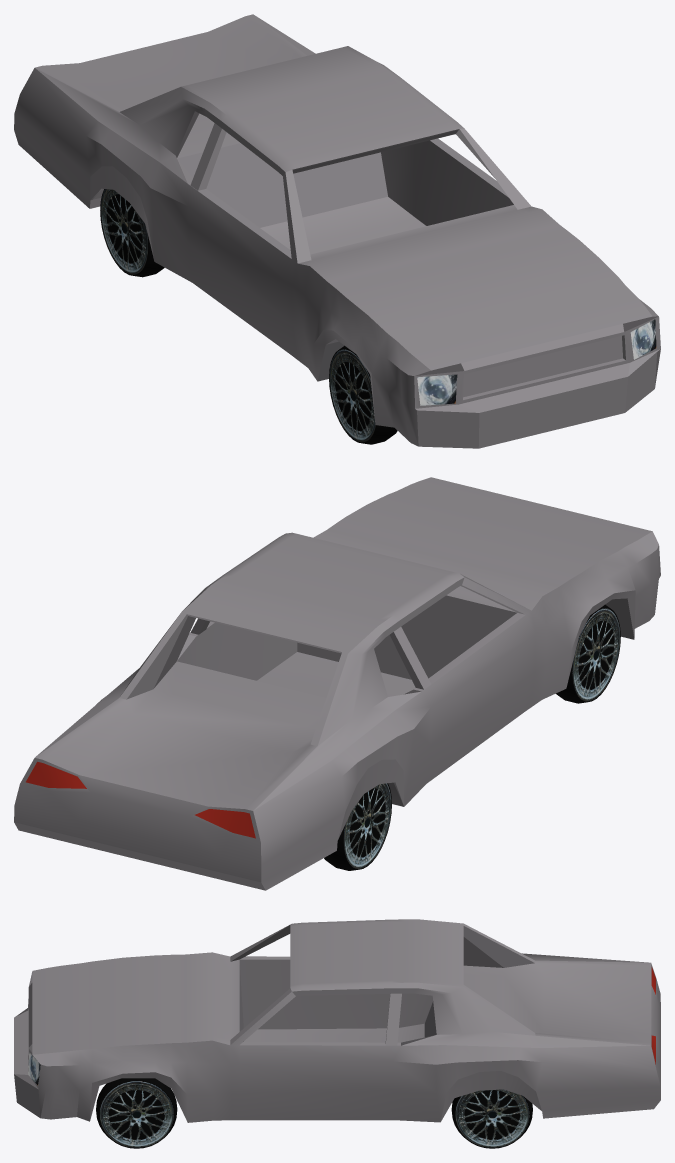
The model's file is deville.fbx.
The picture shows the model from 3 angles, top to bottom: view 1: azimuth 30°, elevation 25°; view 2: azimuth 150°, elevation 25°; view 3: azimuth 270°, elevation 25°; orthographic projection. The views are drawn at different scales.
Visible parts, largest first — view 1: deville, front_right.014, back_right.014; view 2: deville, front_right.014, back_right.014; view 3: deville, front_left.014, back_left.014.
Part boxes in pixels (<box>): deville: <box>14,14,660,448</box>; front_right.014: <box>329,345,397,444</box>; back_right.014: <box>100,189,164,277</box>; deville: <box>14,477,660,890</box>; front_right.014: <box>556,604,620,703</box>; back_right.014: <box>324,783,391,870</box>; deville: <box>14,919,660,1122</box>; front_left.014: <box>96,1078,177,1148</box>; back_left.014: <box>451,1089,532,1148</box>.
Bounding box in the file's own units: 121 × 87.24 × 331.
